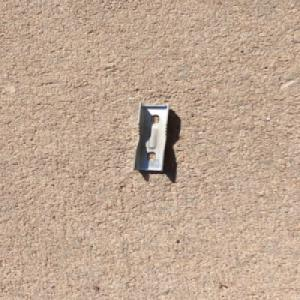ClampPart: (131, 101, 172, 172)
